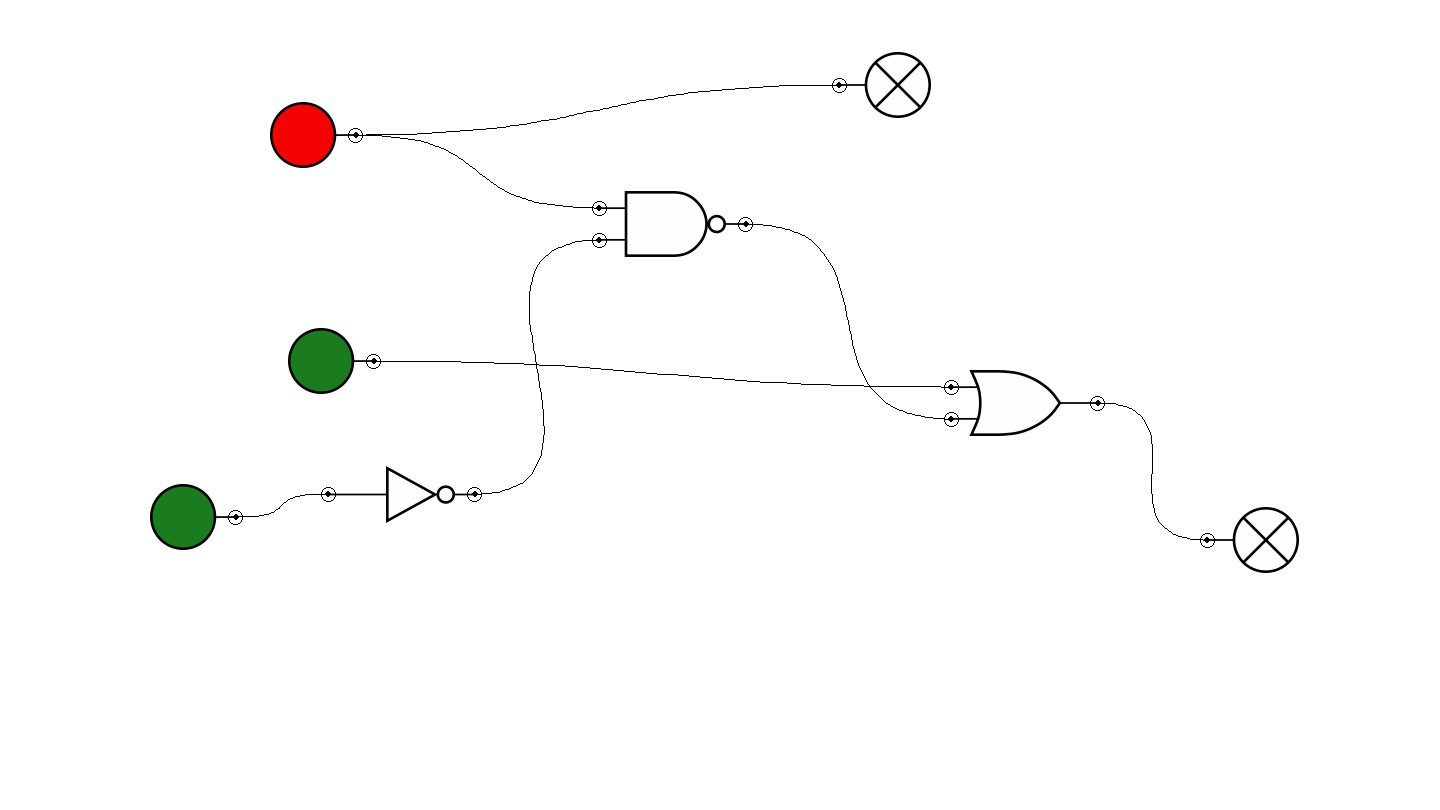bulb: (1200, 507, 1299, 573), (832, 52, 931, 118)
nand: (592, 191, 753, 257)
not: (321, 466, 482, 523)
or: (944, 370, 1105, 436)
switch_False: (270, 102, 363, 168)
switch_True: (288, 328, 381, 394), (150, 484, 243, 550)
